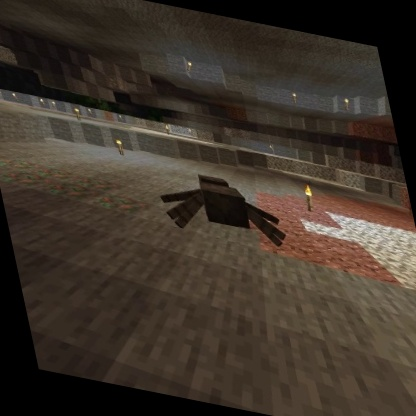spider: (148, 160, 292, 254)
